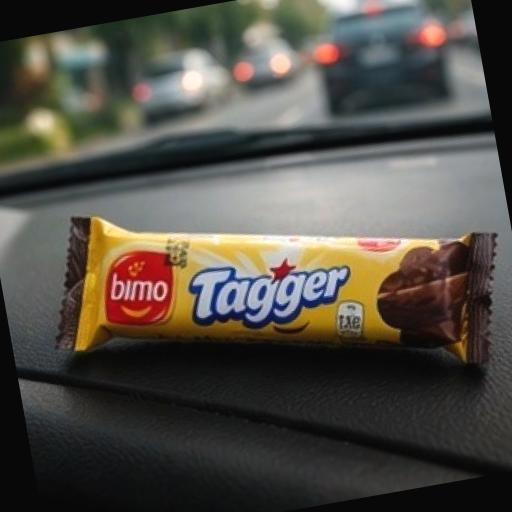tagger: (18, 88, 512, 459)
